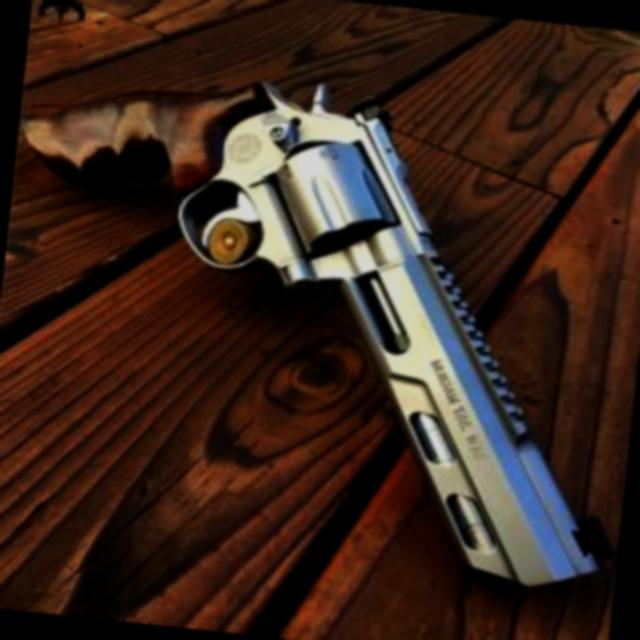revolver: (0, 44, 640, 606)
